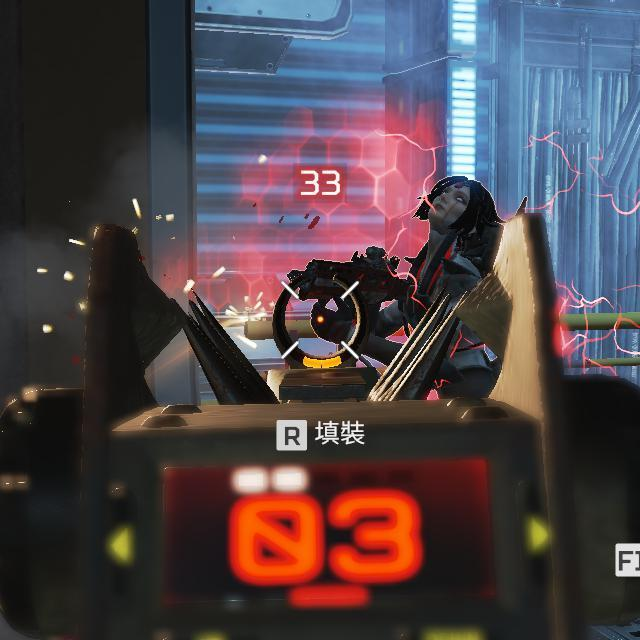avatar: (399, 173, 512, 404)
